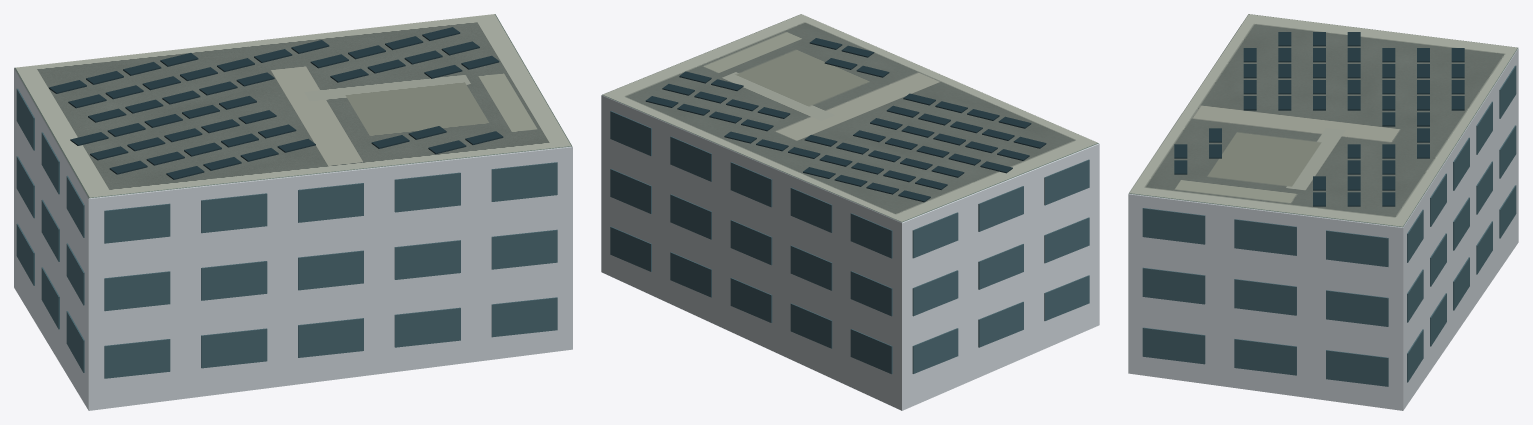
File: fragments.glb
The picture shows the model from 3 angles, left to right: view 1: azimuth 30°, elevation 25°; view 2: azimuth 150°, elevation 25°; view 3: azimuth 270°, elevation 25°; orthographic projection. The views are drawn at different scales.
Parts seen in each view (by area): view 1: SM_apple_Fragment_026, SM_apple_Fragment_010, SM_apple_Fragment_048, SM_apple_Fragment_034, SM_apple_Fragment_035, SM_apple_Fragment_016, SM_apple_Fragment_052, SM_apple_Fragment_025, SM_apple_Fragment_008, SM_apple_Fragment_046, SM_apple_Fragment_002, SM_apple_Fragment_053 (+22 smaller); view 2: SM_apple_Fragment_047, SM_apple_Fragment_009, SM_apple_Fragment_040, SM_apple_Fragment_032, SM_apple_Fragment_027, SM_apple_Fragment_003, SM_apple_Fragment_015, SM_apple_Fragment_036, SM_apple_Fragment_020, SM_apple_Fragment_024, SM_apple_Fragment_004, SM_apple_Fragment_012 (+22 smaller); view 3: SM_apple_Fragment_022, SM_apple_Fragment_005, SM_apple_Fragment_017, SM_apple_Fragment_039, SM_apple_Fragment_029, SM_apple_Fragment_025, SM_apple_Fragment_003, SM_apple_Fragment_036, SM_apple_Fragment_042, SM_apple_Fragment_058, SM_apple_Fragment_050, SM_apple_Fragment_010 (+24 smaller).
Boxes of the visible parts, x1,y1,x2,y2 form: SM_apple_Fragment_026: (104,203,267,319); SM_apple_Fragment_010: (344,125,504,212); SM_apple_Fragment_048: (474,220,572,346); SM_apple_Fragment_034: (250,250,371,357); SM_apple_Fragment_035: (144,300,267,403); SM_apple_Fragment_016: (367,208,482,312); SM_apple_Fragment_052: (282,150,418,279); SM_apple_Fragment_025: (469,129,572,235); SM_apple_Fragment_008: (66,230,170,338); SM_apple_Fragment_046: (146,142,267,233); SM_apple_Fragment_002: (224,138,338,251); SM_apple_Fragment_053: (320,305,460,381); SM_apple_Fragment_047: (850,198,976,323); SM_apple_Fragment_009: (898,159,1027,267); SM_apple_Fragment_040: (850,317,958,410); SM_apple_Fragment_032: (938,244,1025,388); SM_apple_Fragment_027: (790,182,905,290); SM_apple_Fragment_003: (628,91,750,189); SM_apple_Fragment_015: (992,126,1099,225); SM_apple_Fragment_036: (720,118,846,207); SM_apple_Fragment_020: (646,182,726,297); SM_apple_Fragment_024: (773,287,857,389); SM_apple_Fragment_004: (701,256,779,351); SM_apple_Fragment_012: (752,154,837,241); SM_apple_Fragment_022: (1142,266,1263,387); SM_apple_Fragment_005: (1159,170,1306,275); SM_apple_Fragment_017: (1277,187,1413,282); SM_apple_Fragment_039: (1234,266,1363,357); SM_apple_Fragment_029: (1326,209,1423,335); SM_apple_Fragment_025: (1128,168,1212,273); SM_apple_Fragment_003: (1338,156,1449,252); SM_apple_Fragment_036: (1335,108,1469,190); SM_apple_Fragment_042: (1278,64,1383,118); SM_apple_Fragment_058: (1282,350,1388,407); SM_apple_Fragment_050: (1280,127,1380,190); SM_apple_Fragment_010: (1146,117,1254,174).
Bounding box in the file's own units: 2.2 × 0.9416 × 1.7.
6 materials, 1 textured.
